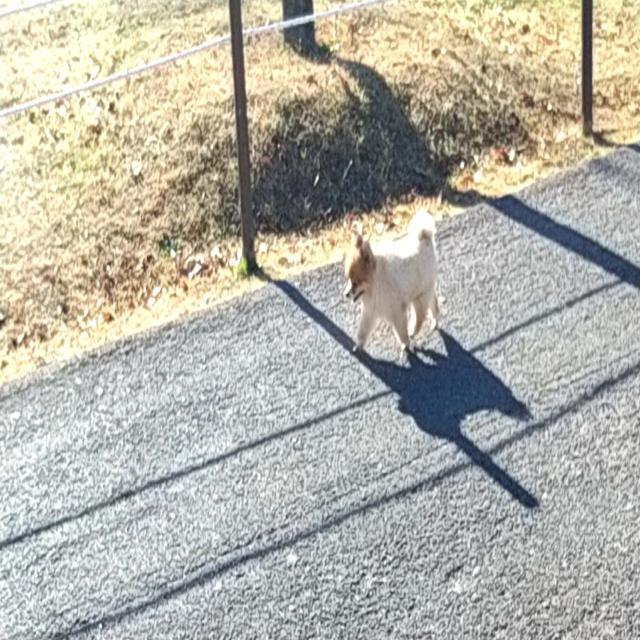Dog: (343, 210, 441, 351)
